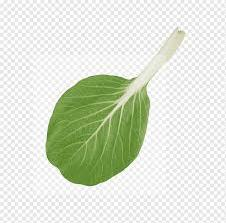Healthy-Pechay: (48, 22, 183, 188)
